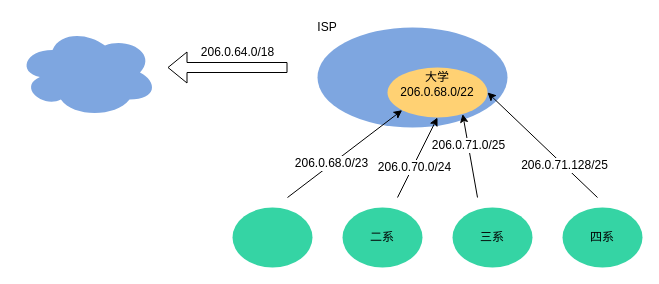
The diagram is 659 pixels wide and 284 high, and some of its shapes have lost their labels. Here are the shapes that lost their labels. From the top down, the box of each, then its label:
(17, 27, 157, 117): 互联网
(232, 207, 312, 267): 一系
